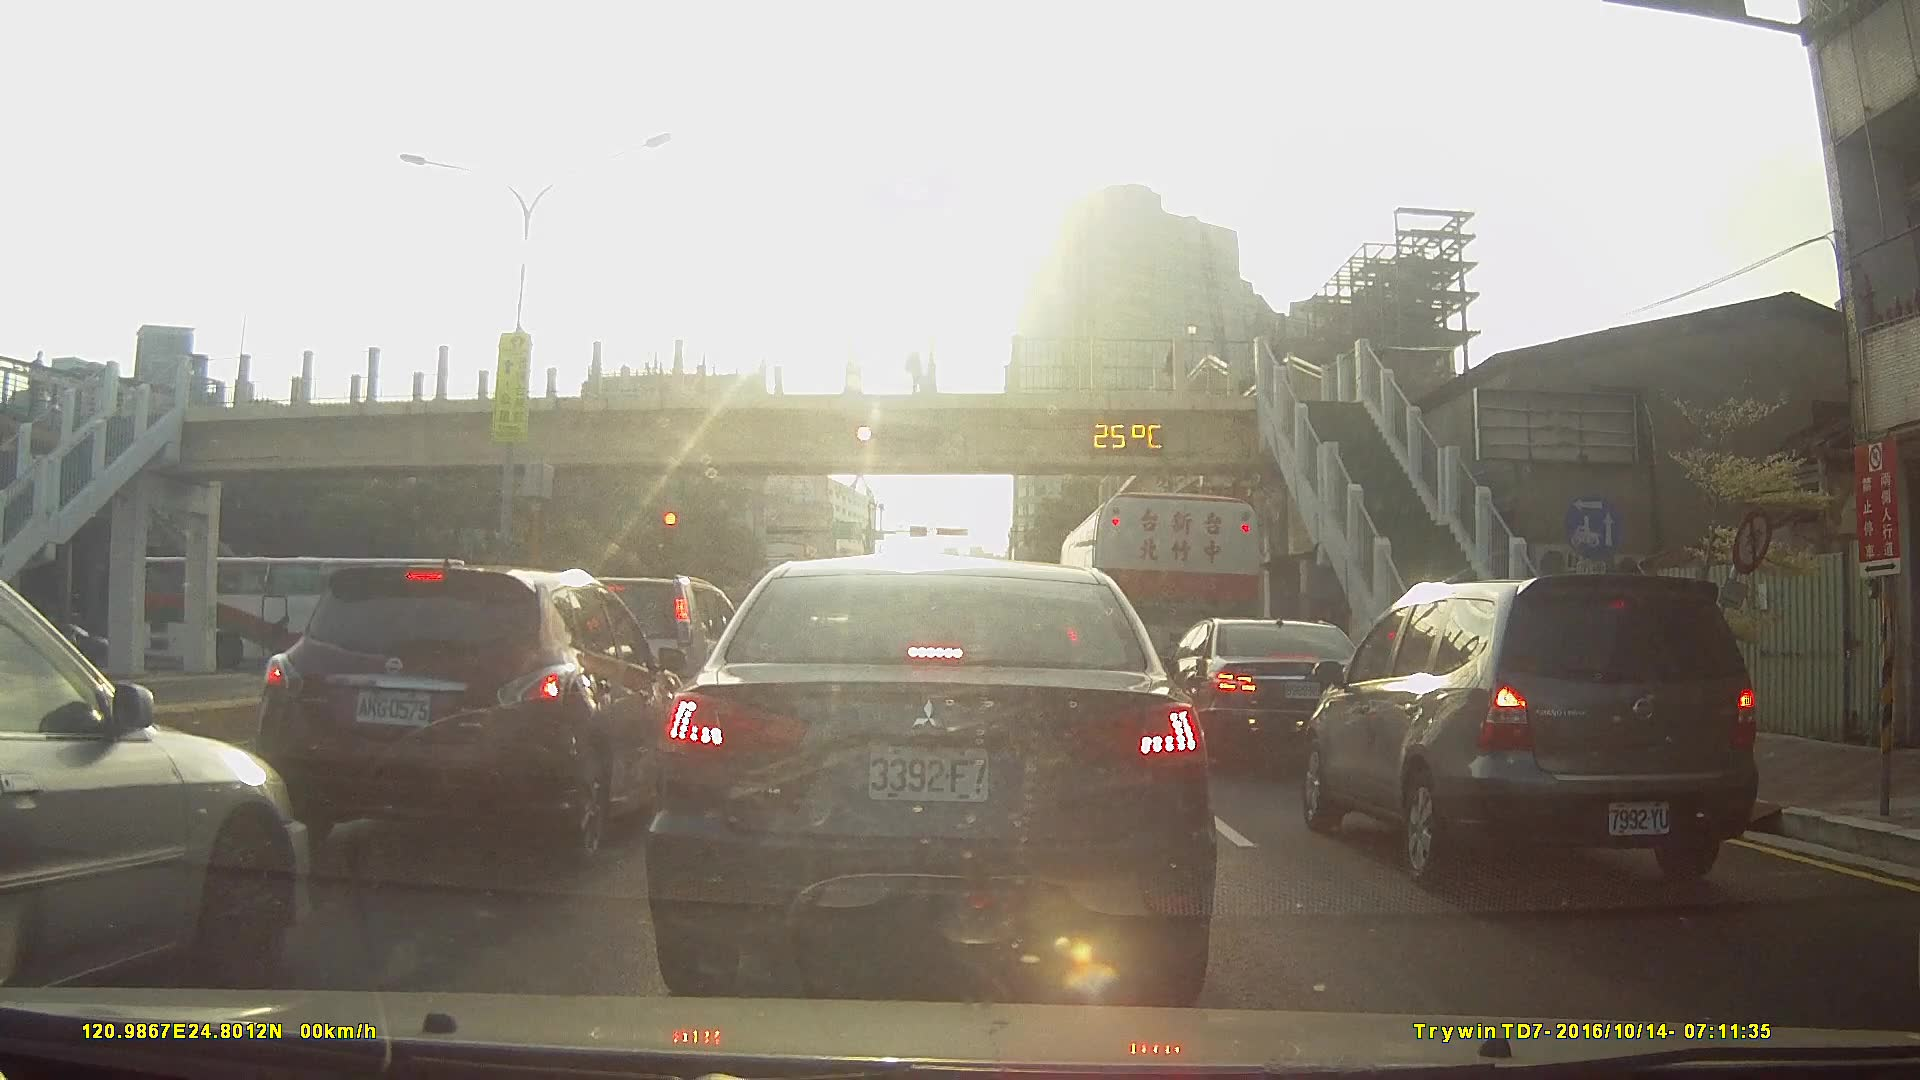pedestrian: (1273, 346, 1297, 419), (1165, 334, 1193, 391), (908, 341, 928, 399)
rider: (250, 614, 301, 668)
vehicle: (644, 554, 1218, 1014), (1300, 572, 1758, 892), (255, 561, 687, 868), (0, 578, 313, 991), (137, 553, 474, 669), (1155, 616, 1369, 770)
